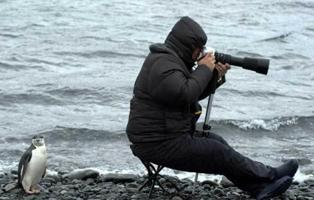person: (127, 18, 300, 200)
